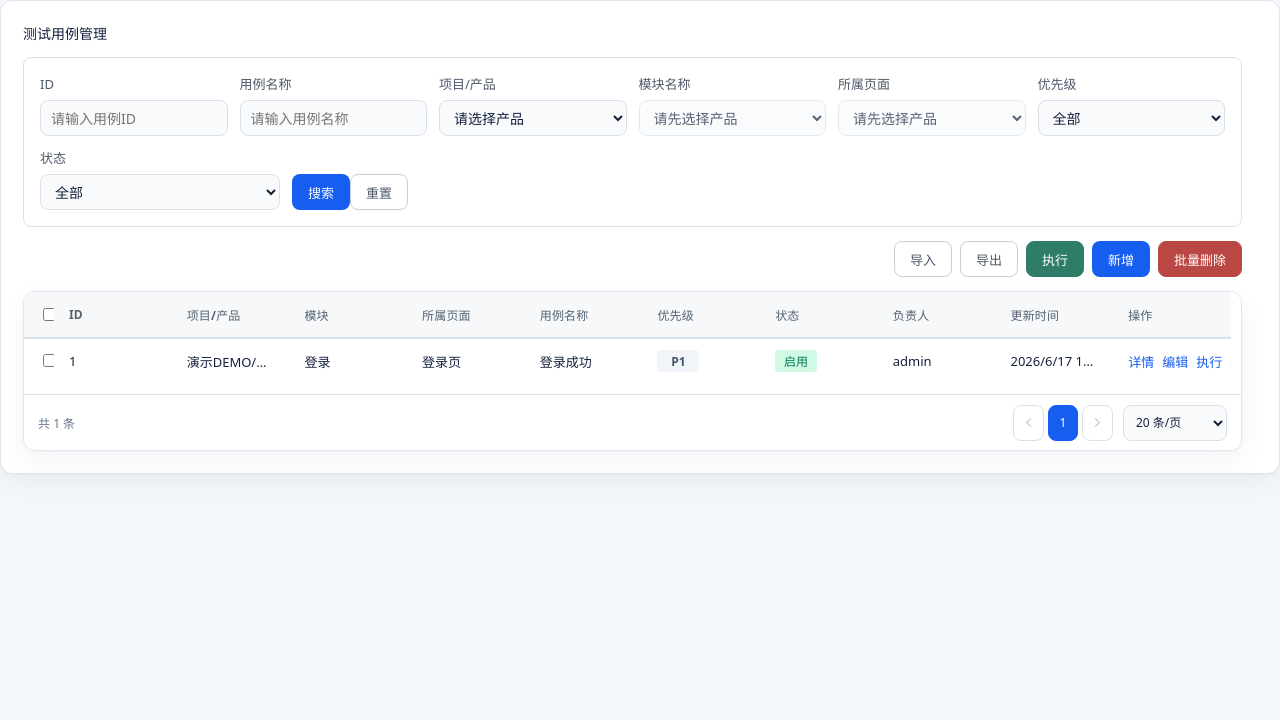
Test: UIAutomationPage 测试用例页 › 支持直接执行单条测试用例
Expected: the text "登录成功" is shown, [525, 338, 642, 384]
Click the button with aria-label "执行用例 登录成功".
click(1209, 361)  # box [1196, 343, 1222, 379]
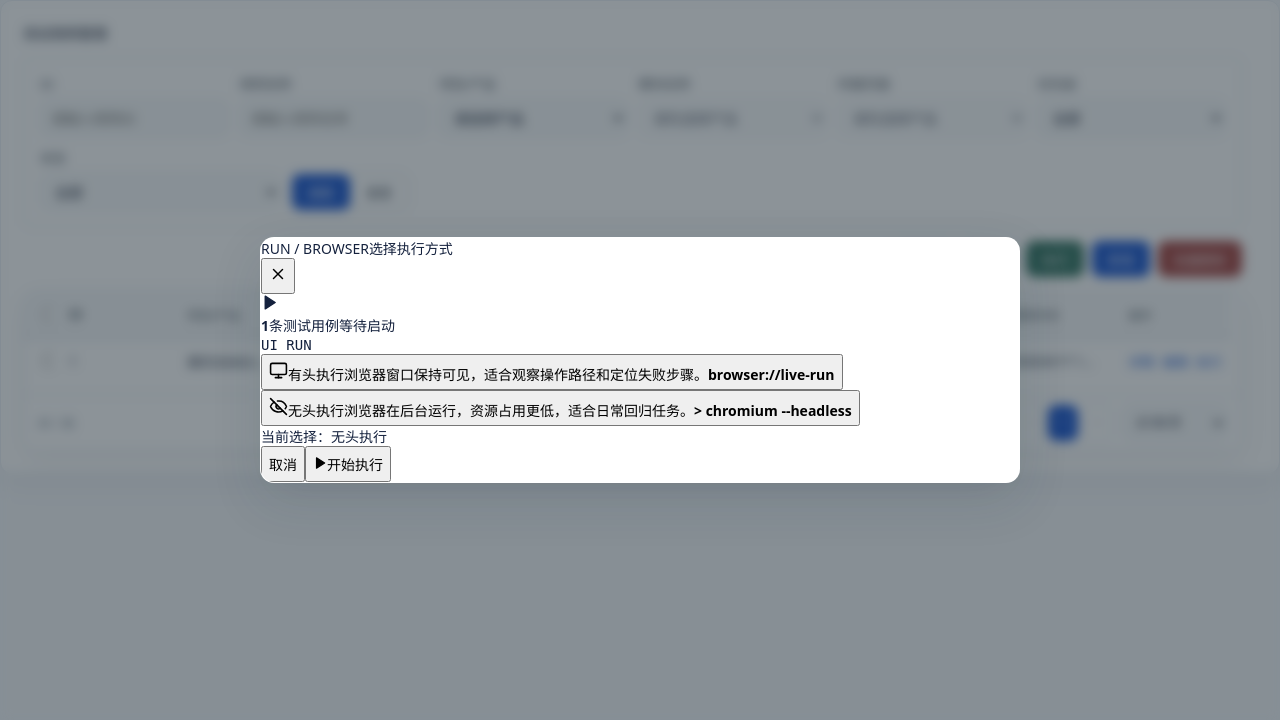
Now the element named "选择执行模式" is shown, box [260, 237, 1020, 483]
Click the button "开始执行".
click(348, 464)  # box [305, 446, 391, 482]
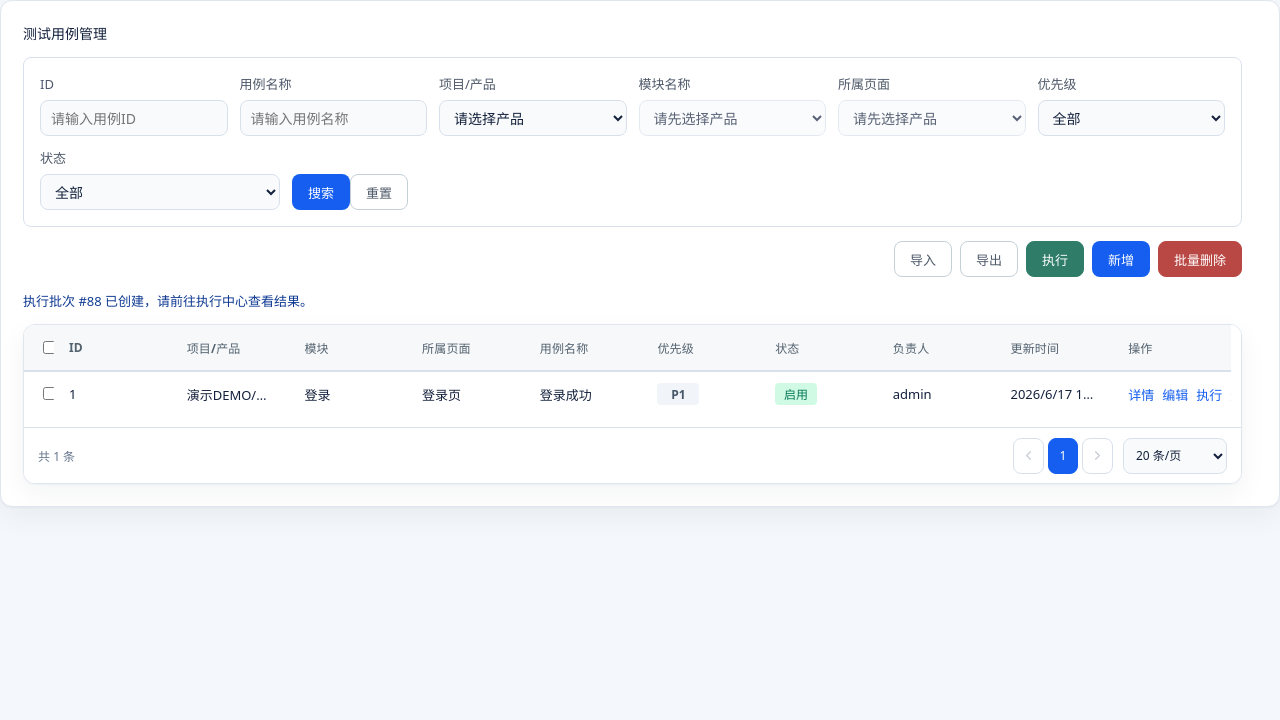
Now the text "执行批次 #88 已创建，请前往执行中心查看结果。" is shown, box [23, 292, 313, 310]
